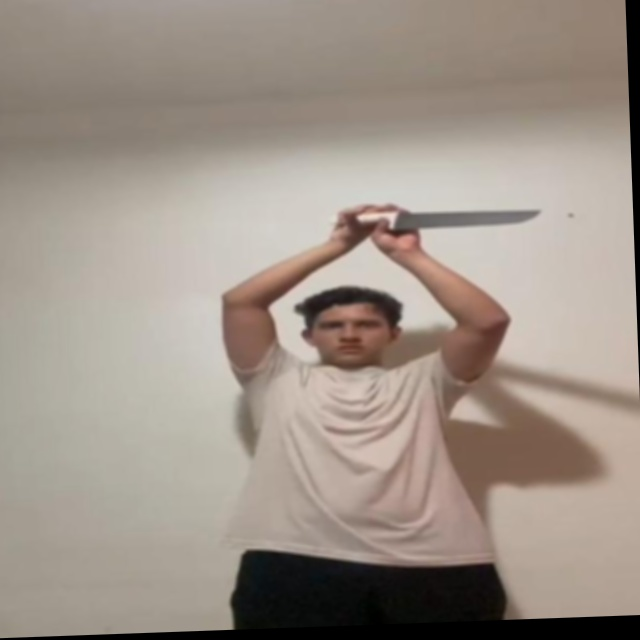Sharp-Object: (404, 203, 547, 233)
